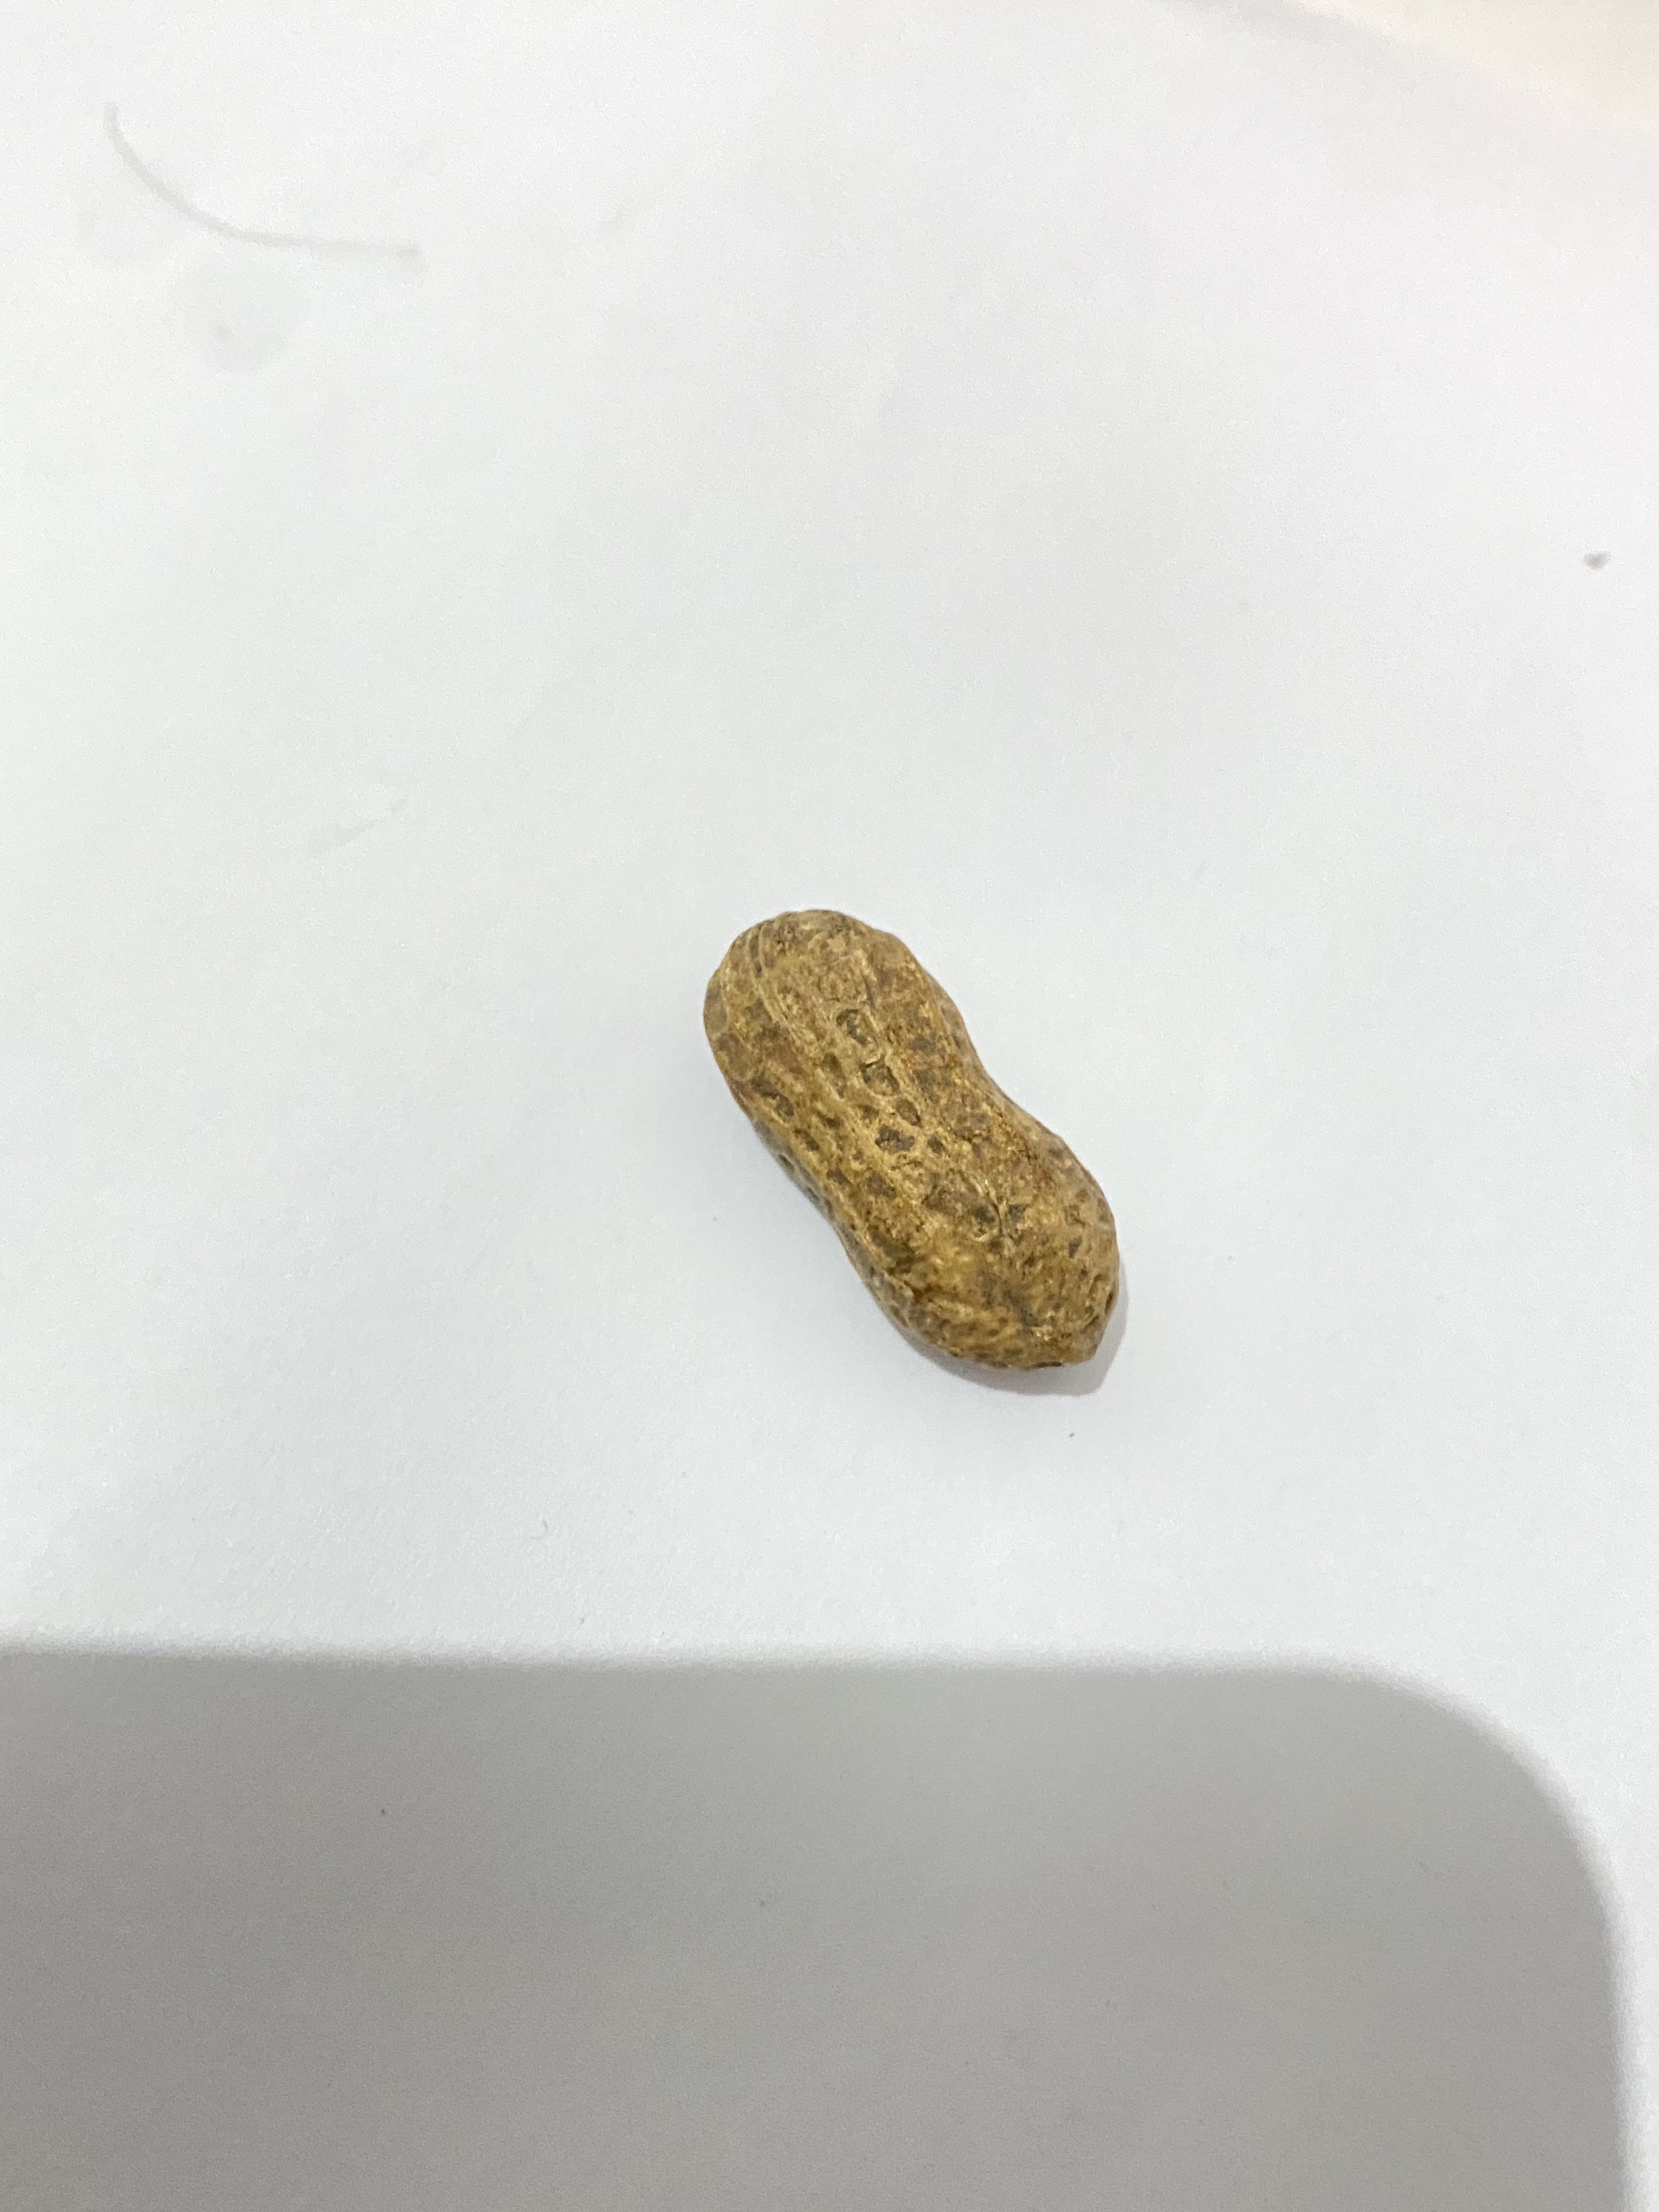kacang2: (669, 859, 1178, 1428)
